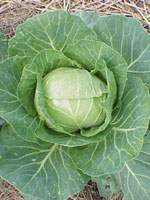cabbage: (0, 8, 149, 199)
